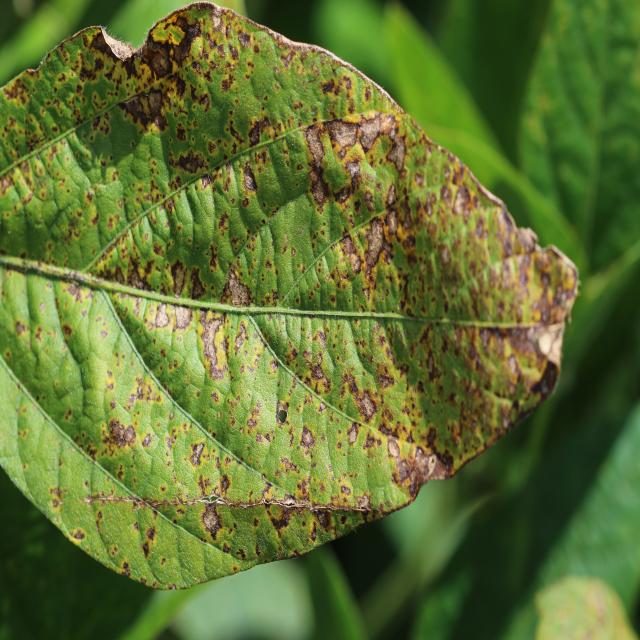Bacterial_Blight: (266, 359, 340, 503), (449, 321, 541, 418), (174, 418, 233, 518), (489, 250, 556, 328), (143, 301, 189, 351), (0, 91, 33, 159), (99, 408, 138, 460), (222, 259, 264, 305), (75, 43, 114, 86), (363, 222, 387, 276), (174, 25, 202, 68), (175, 147, 209, 175), (386, 132, 407, 173), (305, 125, 327, 163), (140, 521, 159, 560), (168, 258, 187, 295), (126, 263, 150, 291), (147, 48, 170, 77), (344, 160, 364, 192), (394, 455, 413, 484), (310, 177, 329, 206), (147, 88, 164, 120), (453, 184, 472, 212), (275, 398, 292, 427), (189, 273, 207, 300), (48, 484, 67, 509), (242, 164, 258, 193), (228, 118, 245, 145), (247, 118, 262, 146), (309, 361, 328, 383), (234, 326, 247, 356), (341, 235, 357, 257), (426, 352, 438, 379), (378, 372, 395, 391), (387, 437, 401, 458), (440, 451, 454, 471), (439, 244, 451, 266), (105, 369, 116, 392), (426, 427, 438, 448), (321, 78, 335, 95), (413, 170, 426, 188), (238, 31, 251, 48), (386, 184, 396, 206), (71, 528, 86, 541), (199, 94, 210, 111), (228, 44, 239, 60), (424, 200, 434, 217), (62, 324, 72, 339), (211, 391, 220, 404), (221, 79, 230, 92), (87, 192, 93, 201)
Soybean: (0, 2, 579, 589)
